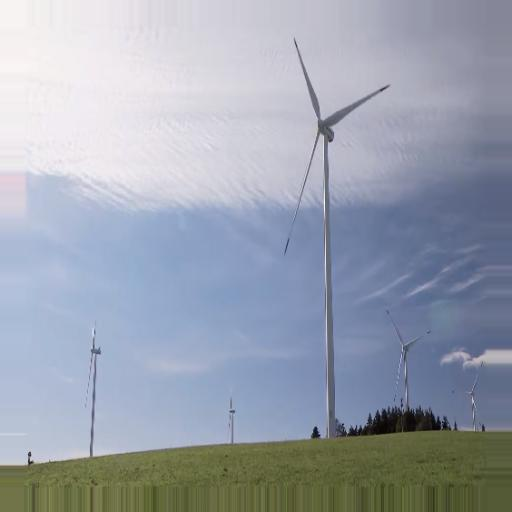wind turbine: (284, 38, 391, 426), (384, 311, 432, 435), (86, 320, 108, 457), (449, 359, 487, 433)
